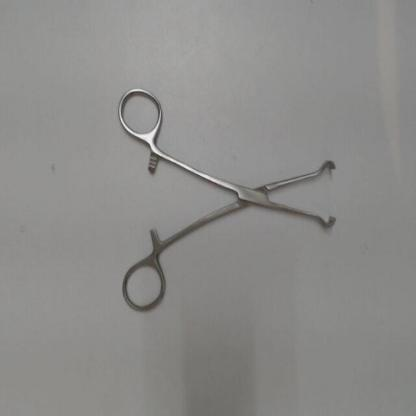Babcock Tissue Forceps: (113, 82, 343, 320)
